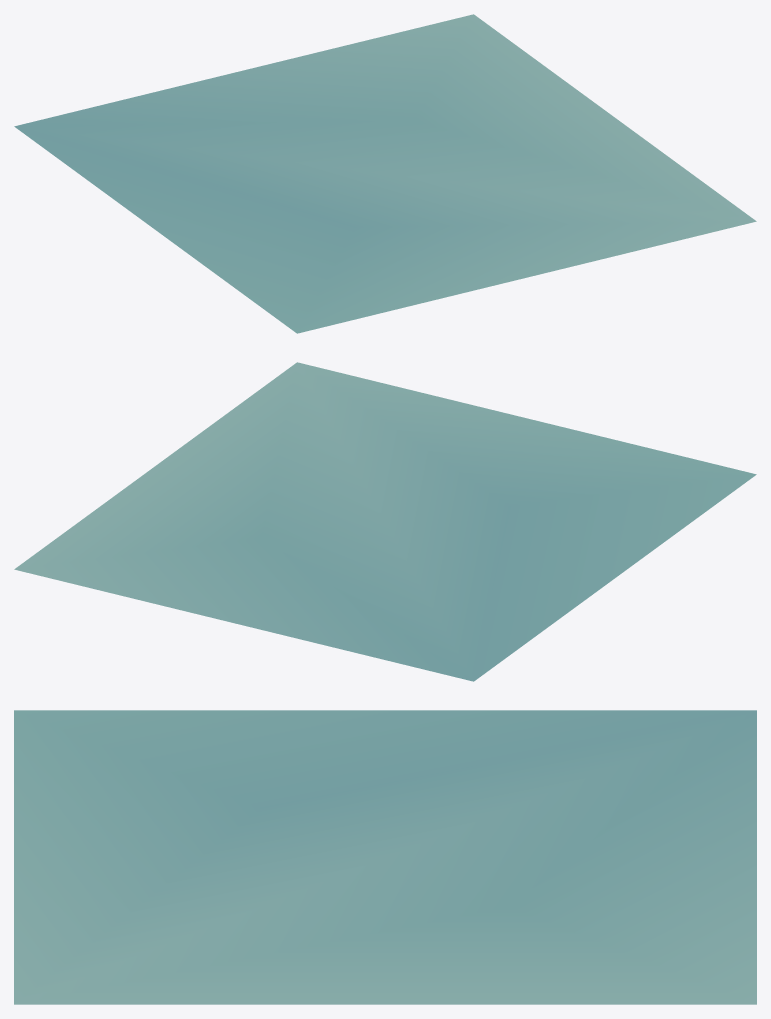
File: water-25-3.glb
3 renders of one model, top to bottom at view 1: azimuth 30°, elevation 25°; view 2: azimuth 150°, elevation 25°; view 3: azimuth 270°, elevation 25°, orthographic. The views are drawn at different scales.
Bounding box in the file's own units: 15 × 0 × 16.
